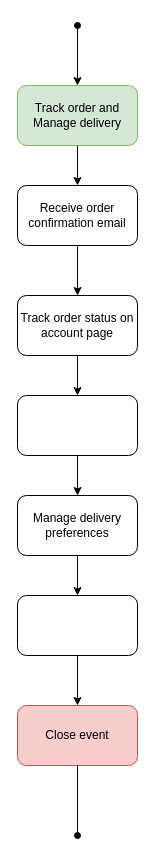
The diagram is 155 pixels wide and 861 high, and some of its shapes have lost their labels. The shapes that lost their labels are listed below. From the top down, each one's centre as x and y in pixels, then its label:
At (77,425): "Real-time delivery updates".
At (77,625): "Contact customer support with delivery-related inquiries".
